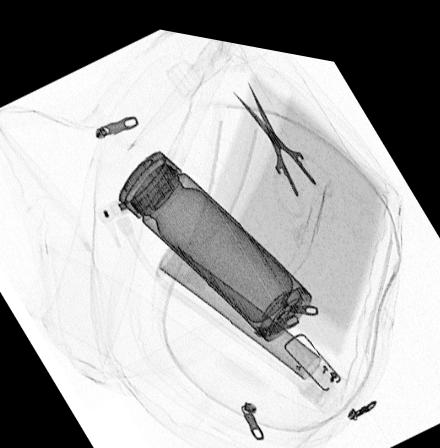Scissors: (225, 66, 336, 209)
